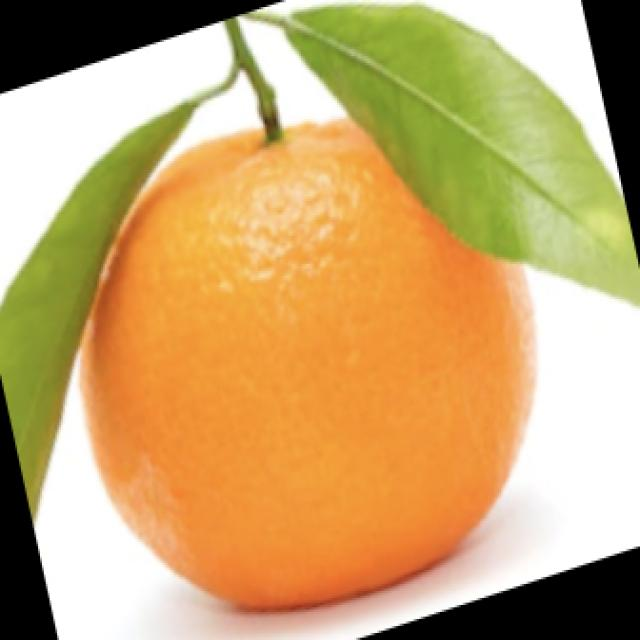fresh: (28, 14, 590, 631)
